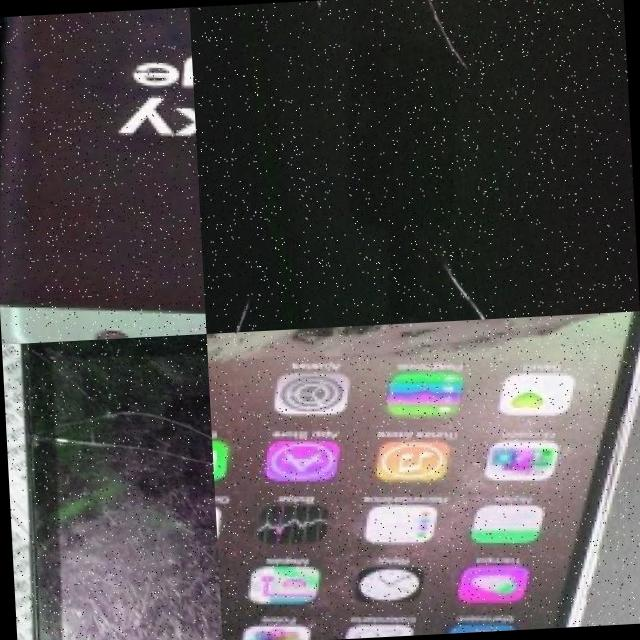scratch: (391, 0, 473, 76), (430, 255, 505, 321), (293, 0, 328, 19), (230, 308, 256, 332)
screen crack: (8, 392, 220, 625)
